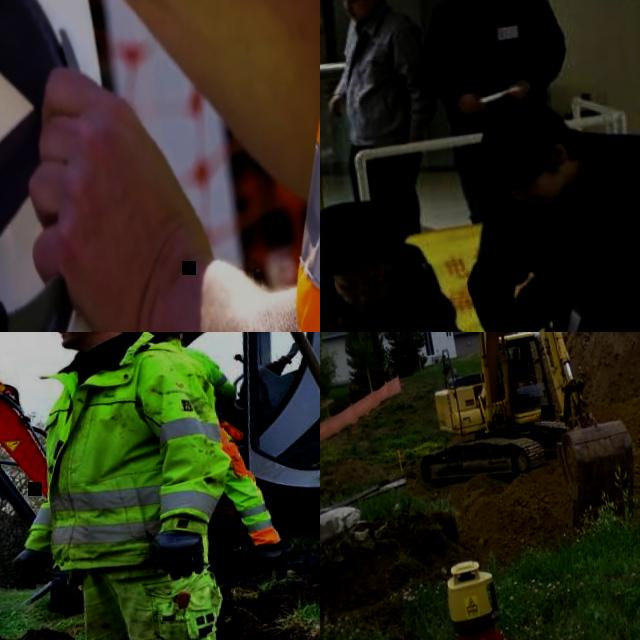Hardhat: (0, 0, 148, 332), (512, 347, 520, 355)
NO-Hardhat: (472, 100, 559, 190), (320, 207, 403, 269), (320, 278, 343, 328), (149, 332, 185, 337)
NO-Mask: (525, 176, 571, 212), (346, 291, 392, 319), (51, 332, 111, 350), (348, 0, 375, 23), (514, 356, 520, 363)
NO-Safety Vest: (504, 128, 640, 331), (427, 0, 551, 113), (331, 11, 422, 148), (342, 267, 442, 332), (512, 361, 528, 382)
Person: (0, 0, 320, 332), (0, 332, 273, 640), (441, 76, 640, 332), (405, 0, 586, 228), (320, 0, 453, 251), (320, 184, 503, 332), (208, 399, 296, 575), (139, 332, 242, 423), (508, 346, 536, 387)
Safety Vest: (20, 333, 238, 576), (39, 391, 262, 566), (236, 0, 320, 332), (139, 336, 224, 420)
vehicle: (0, 332, 320, 640), (388, 332, 640, 549)
